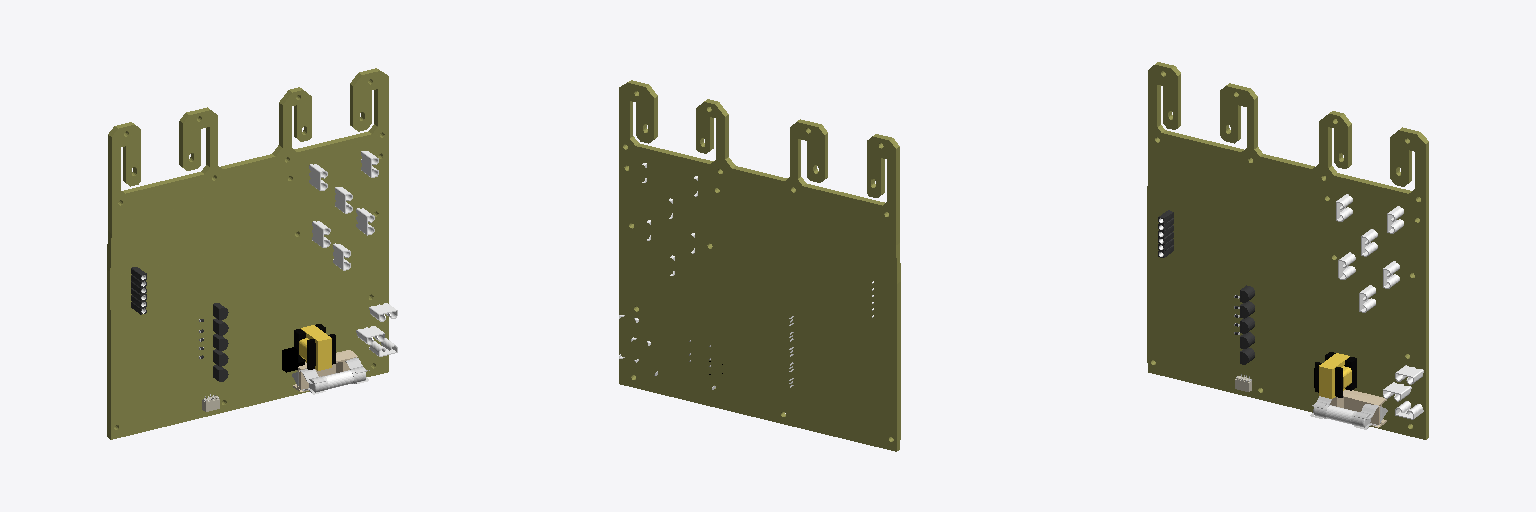
The model's file is OBJ_PCB_FFF_PCB_all_in_one-5Relays_power_motor.obj.
The picture shows the model from 3 angles: view 1: azimuth 30°, elevation 25°; view 2: azimuth 150°, elevation 25°; view 3: azimuth 330°, elevation 25°; orthographic projection.
Size of the model in its own units: 433 by 459 by 73.08.